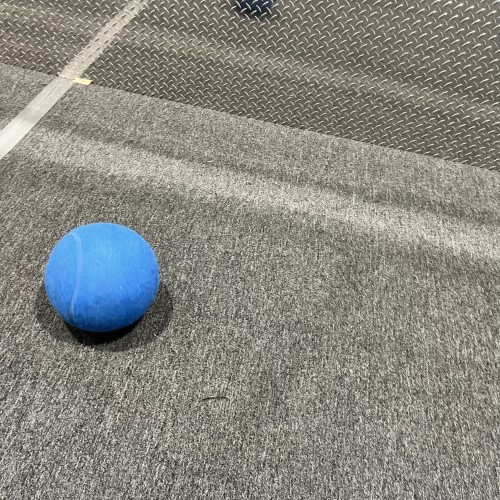blue: (43, 220, 161, 334)
